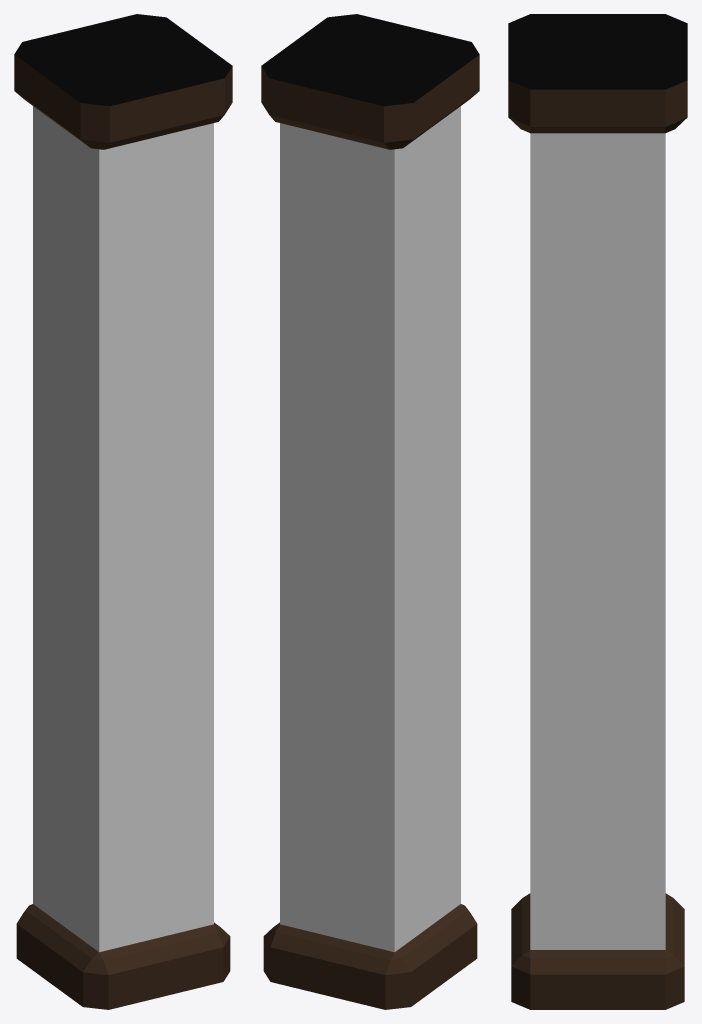
The model's file is Wall_02_Pillar.fbx.
The picture shows the model from 3 angles, left to right: view 1: azimuth 30°, elevation 25°; view 2: azimuth 150°, elevation 25°; view 3: azimuth 270°, elevation 25°; orthographic projection.
Visible parts, largest first — view 1: Cube.145; view 2: Cube.145; view 3: Cube.145.
Boxes of the visible parts, box(x1,y1,x2,y2) form: Cube.145: box(14, 14, 232, 1009); Cube.145: box(261, 14, 479, 1009); Cube.145: box(508, 14, 687, 1009).
Bounding box in the file's own units: 0.5302 × 0.5303 × 3.01.
